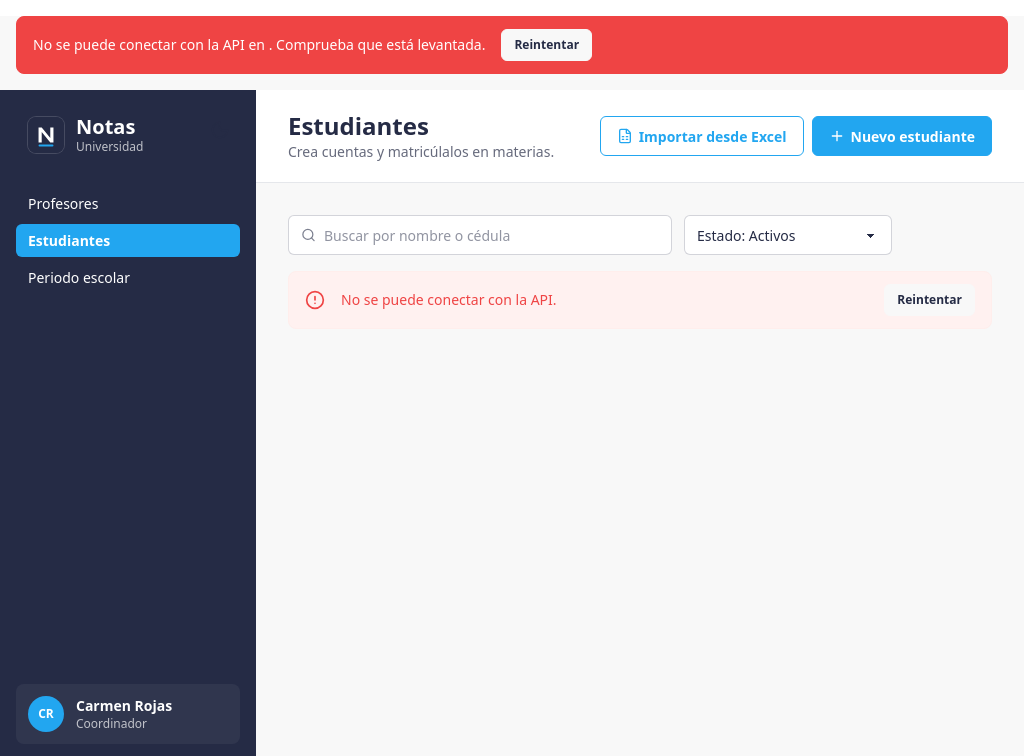
Test case: alta masiva de estudiantes › se llega desde la lista de estudiantes
Click the link "Importar desde Excel" at x=702, y=136, box top-left (600, 116), bottom-right (804, 156)
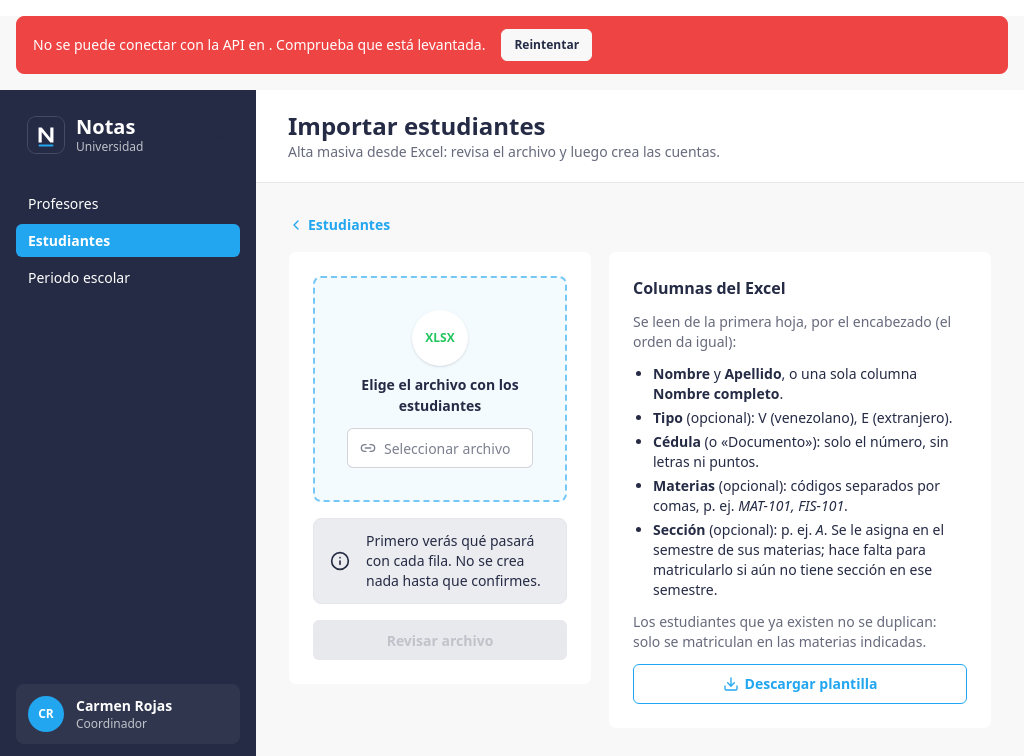
expect the heading "Columnas del Excel" is shown: met, box top-left (633, 277), bottom-right (786, 299)
